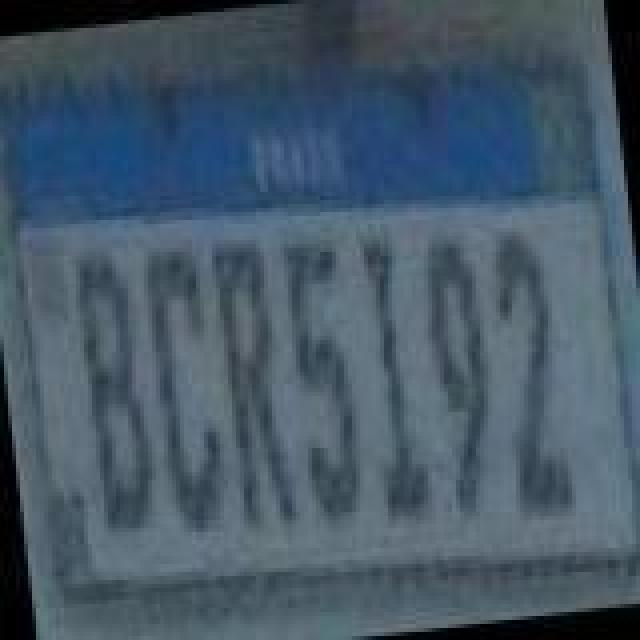2: (482, 228, 574, 524)
5: (278, 228, 370, 524)
9: (414, 228, 506, 524)
B: (64, 248, 160, 536)
C: (136, 240, 232, 544)
I: (350, 228, 434, 524)
R: (210, 228, 302, 532)
